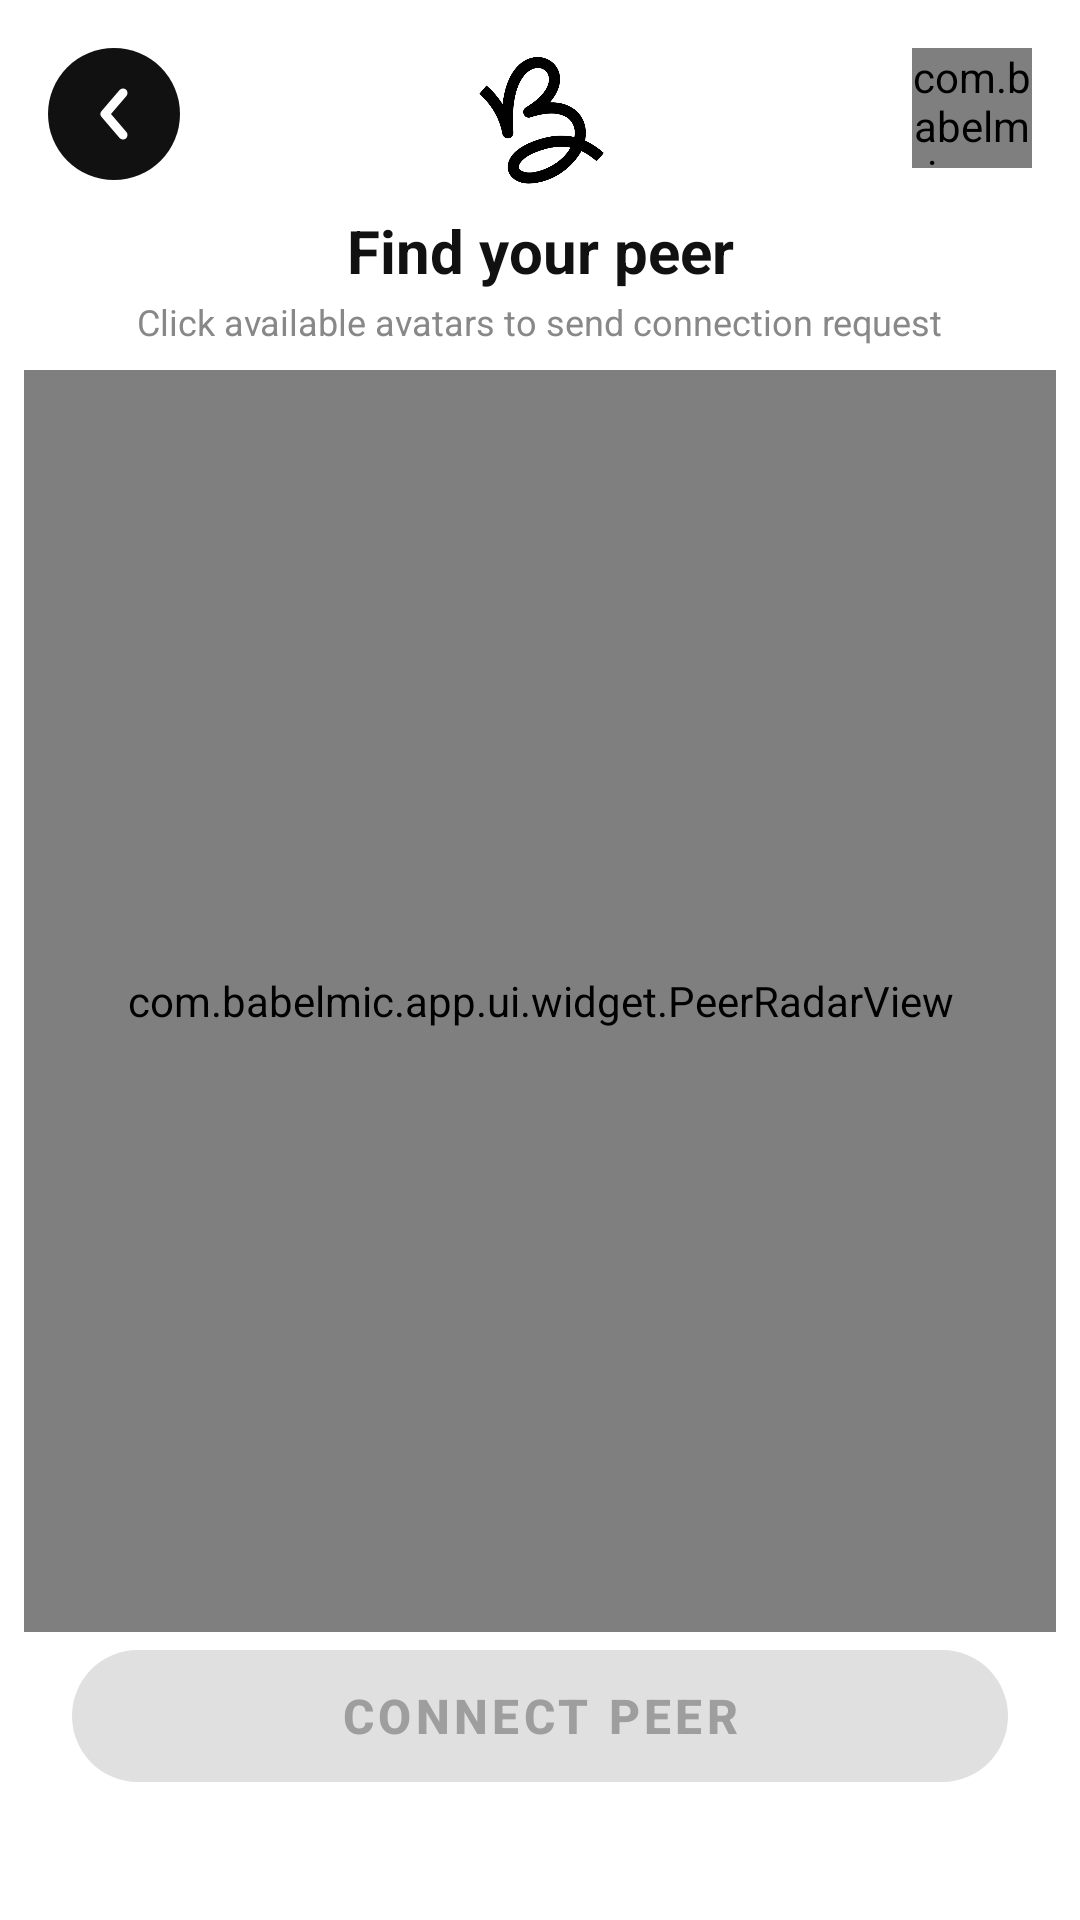

Icons on this 1080*1920 Android screen, each with the point to tap as point (x, y):
Back: point (114, 114)
